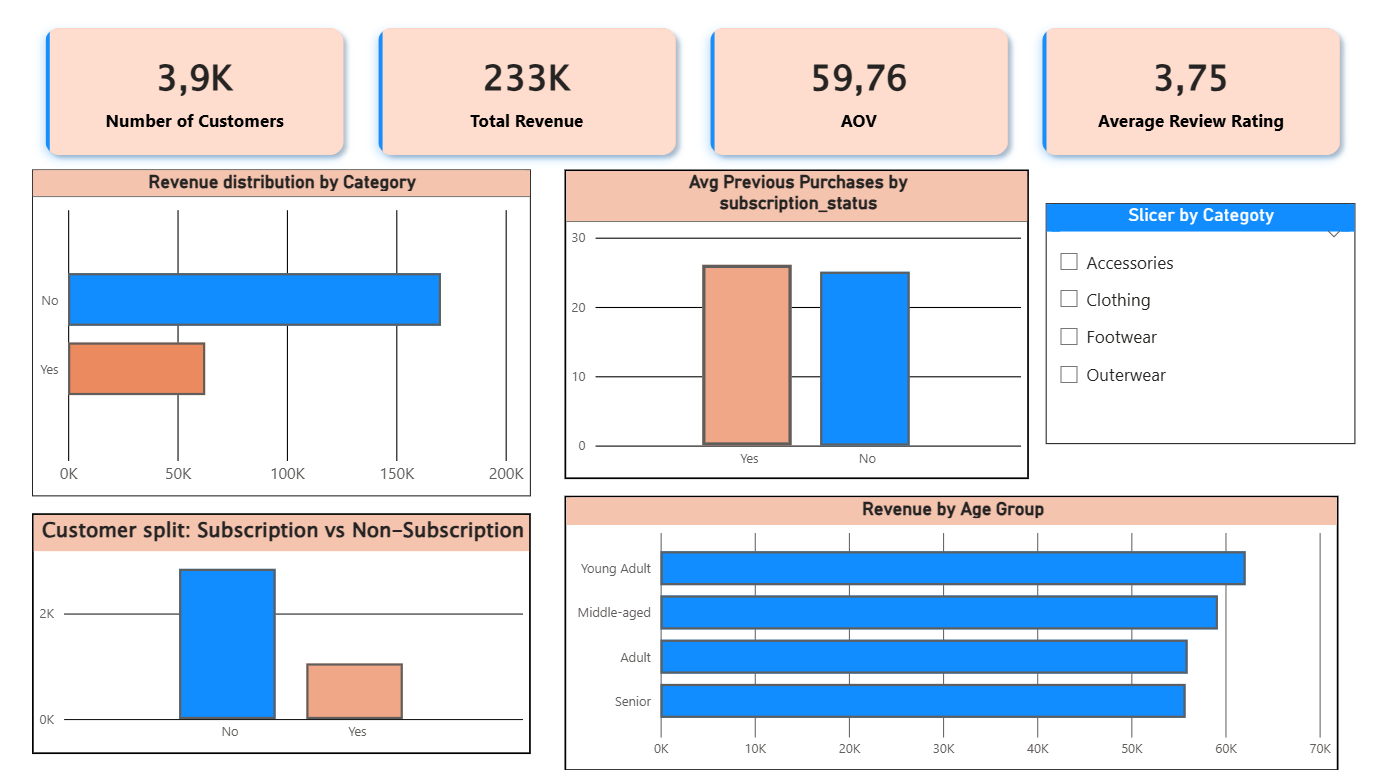

This screenshot's page, from the dashboard's own definition file:
{"tool":"powerbi","page":{"name":"Страница 1","canvas":[1280,720],"ordinal":0},"visuals":[{"type":"cardVisual","fields":{"Data":["public customer.Number of Customers","public customer.Total Revenue","public customer.AOV","public customer.Average Review Rating"]},"box":[16,0,1264,176],"z":0},{"type":"clusteredColumnChart","title":"Customer split: Subscription vs Non-Subscription","fields":{"Category":["public customer.subscription_status"],"Y":["CountNonNull(public customer.customer_id)"]},"box":[32,480,464,224],"z":1000},{"type":"clusteredBarChart","title":"Revenue distribution by Category","fields":{"Category":["public customer.subscription_status"],"Y":["Sum(public customer.purchase_amount)"]},"box":[32,160,464,304],"z":2000},{"type":"clusteredColumnChart","title":"Avg Previous Purchases by subscription_status","fields":{"Category":["public customer.subscription_status"],"Y":["public customer.Avg Previous Purchases"]},"box":[528,160,432,288],"z":3000},{"type":"clusteredBarChart","title":"Revenue by Age Group","fields":{"Category":["public customer.age_group"],"Y":["Sum(public customer.purchase_amount)"]},"box":[528,464,720,256],"z":4000},{"type":"slicer","title":"Slicer by Categoty","fields":{"Values":["public customer.category"]},"box":[976,192,288,224],"z":5000}]}

Visuals, with their boxes in screenshot pixels (x1, y1, x2, y2), scaled from the page's 1280x720 canvas onto the 1373x770 screenshot:
cardVisual - public customer.Number of Customers x public customer.Total Revenue: bbox=(17, 0, 1372, 188)
"Customer split: Subscription vs Non-Subscription" clusteredColumnChart: bbox=(34, 513, 532, 753)
"Revenue distribution by Category" clusteredBarChart: bbox=(34, 171, 532, 496)
"Avg Previous Purchases by subscription_status" clusteredColumnChart: bbox=(566, 171, 1030, 479)
"Revenue by Age Group" clusteredBarChart: bbox=(566, 496, 1339, 769)
"Slicer by Categoty" slicer: bbox=(1047, 205, 1356, 445)
